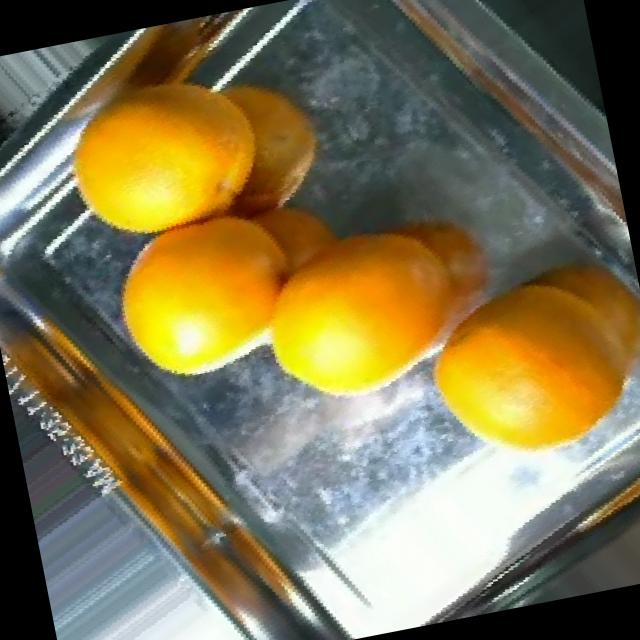Fruit: (74, 182, 332, 422), (166, 39, 360, 248)
